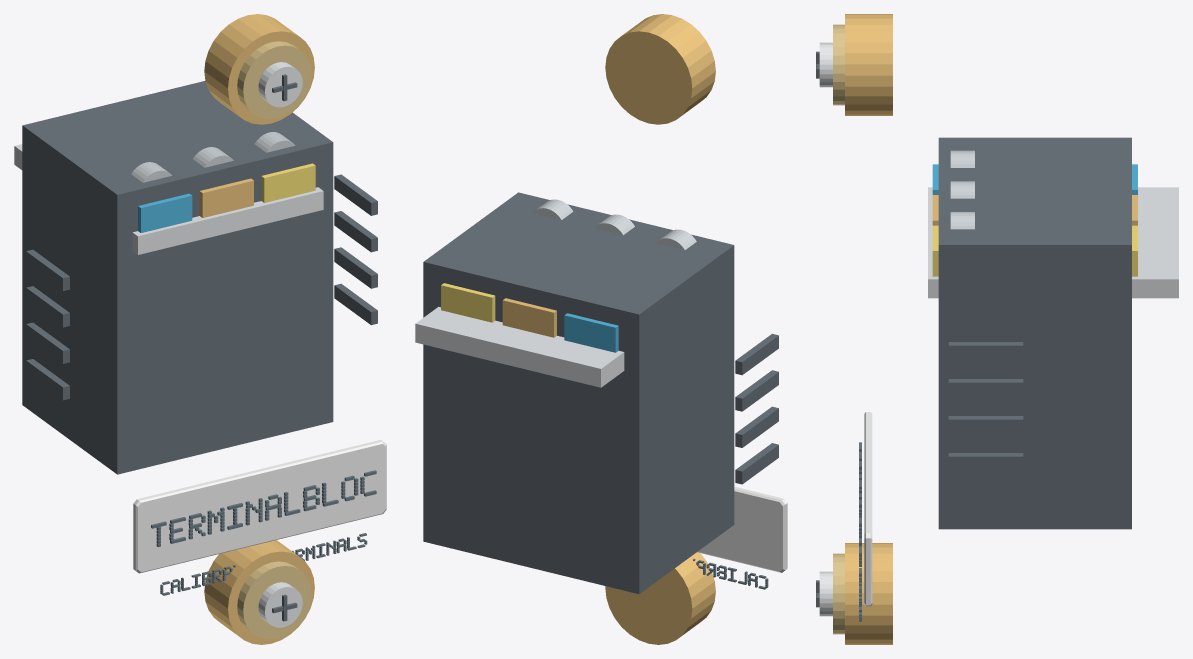
Rendered from terminalBlock.glb.
3 views of the same model, side by side, from view 1: azimuth 30°, elevation 25°; view 2: azimuth 150°, elevation 25°; view 3: azimuth 270°, elevation 25° (orthographic).
Visible parts, largest first — view 1: terminalBlock-detailed; view 2: terminalBlock-detailed; view 3: terminalBlock-detailed.
Boxes of the visible parts, x1,y1,x2,y2 form: terminalBlock-detailed: [14, 14, 386, 644]; terminalBlock-detailed: [415, 14, 787, 644]; terminalBlock-detailed: [816, 14, 1178, 644].
Bounding box in the file's own units: 1.14 × 2.11 × 1.11.
